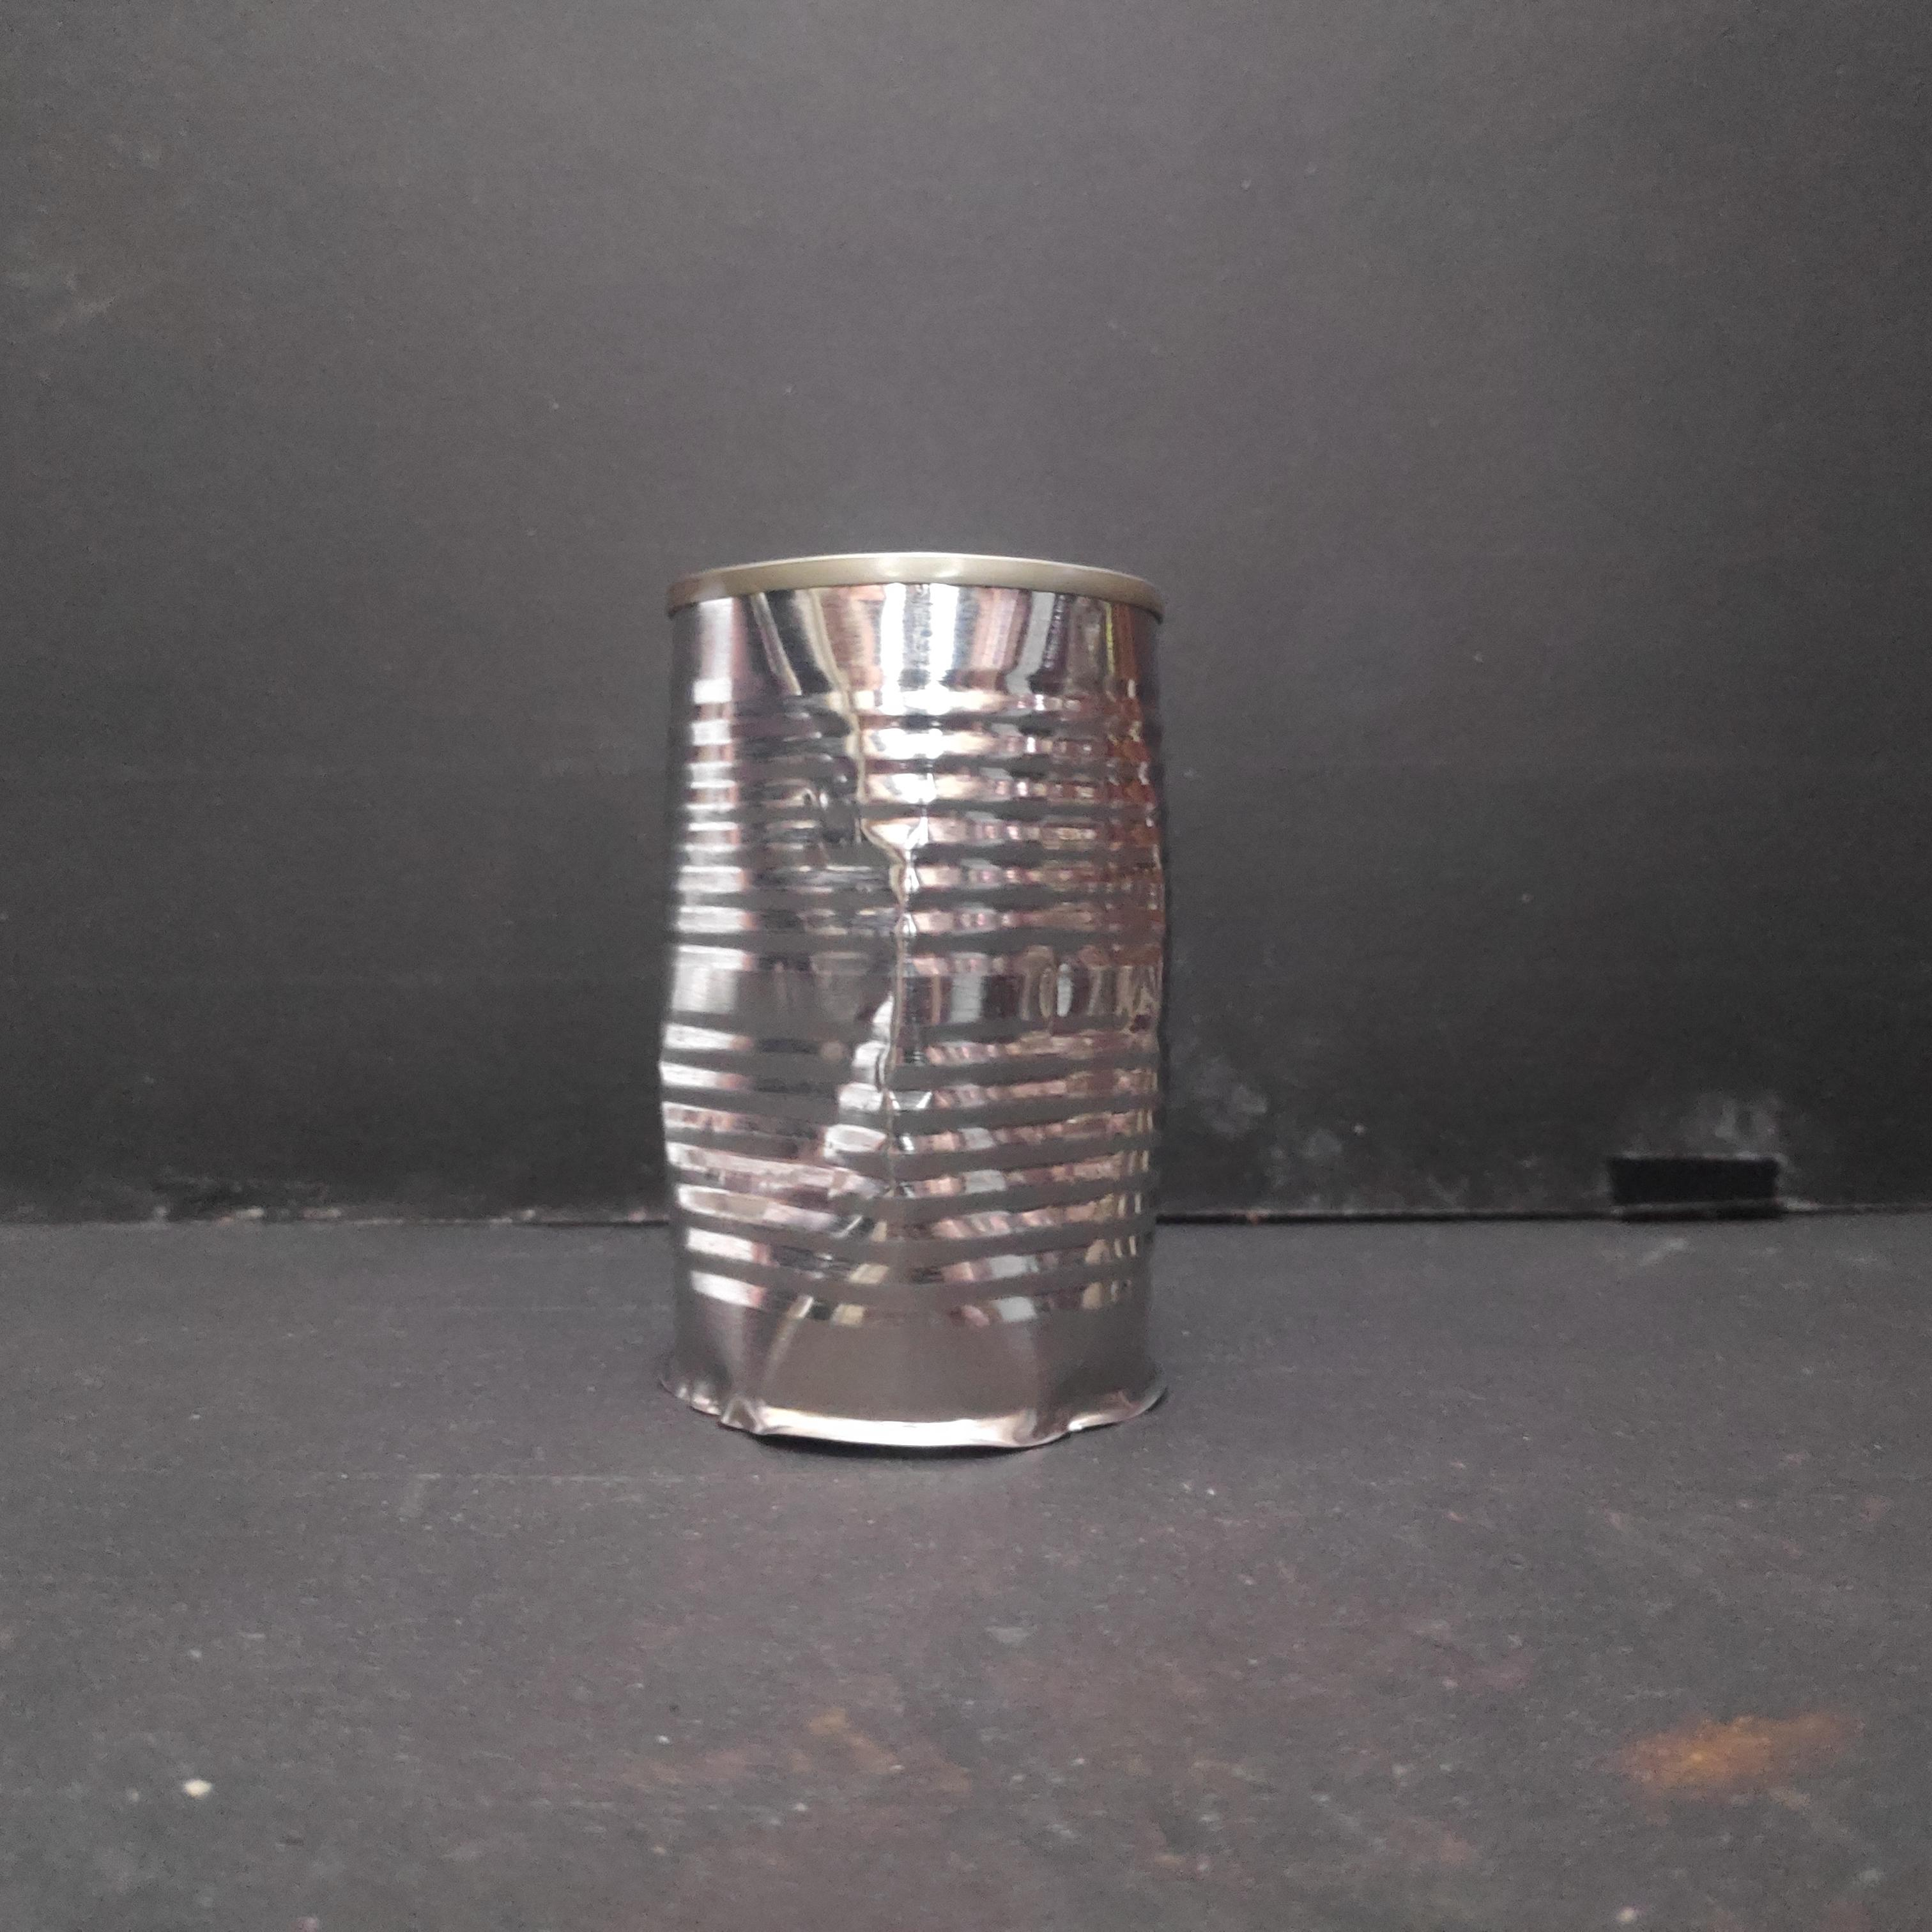Minor Defect: (646, 543, 1180, 1461)
